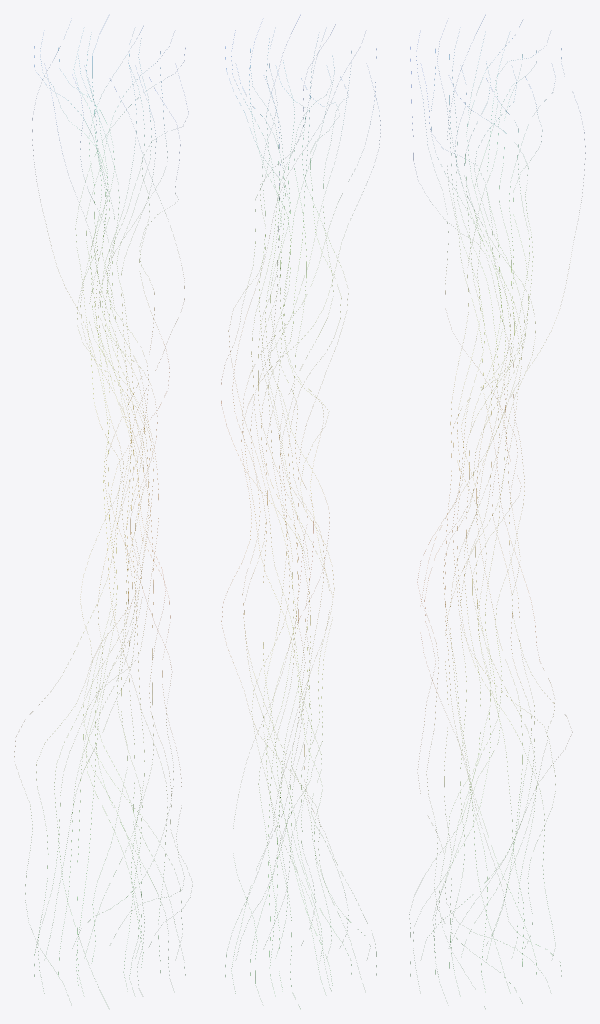
Rendered from SM_DarklineForSpline_4.FBX.
3 views of the same model, side by side, from view 1: azimuth 30°, elevation 25°; view 2: azimuth 150°, elevation 25°; view 3: azimuth 270°, elevation 25° (orthographic).
Parts seen in each view (by area): view 1: SM_DarklineForSpline_4; view 2: SM_DarklineForSpline_4; view 3: SM_DarklineForSpline_4.
Part boxes in pixels (left/top/right/bottom): SM_DarklineForSpline_4: left=14, top=26, right=192, bottom=993; SM_DarklineForSpline_4: left=221, top=15, right=380, bottom=1008; SM_DarklineForSpline_4: left=409, top=15, right=585, bottom=1008.
Size of the model in its own units: 32.7 by 34.25 by 200.
